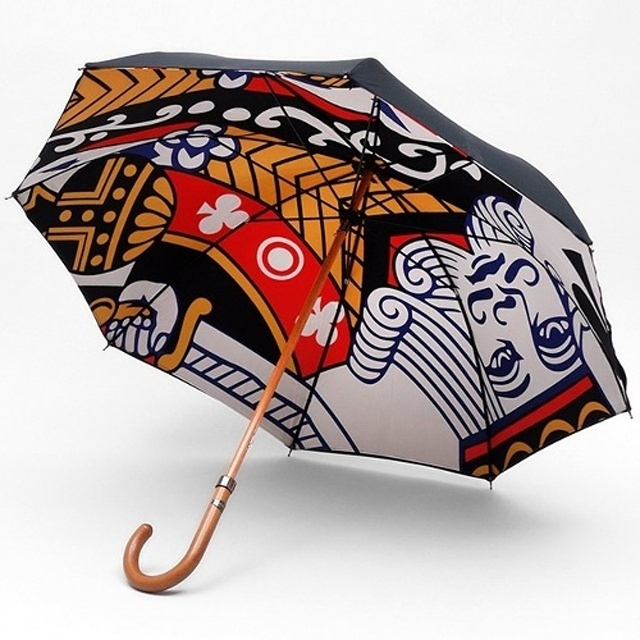umbrella: (5, 48, 640, 596)
